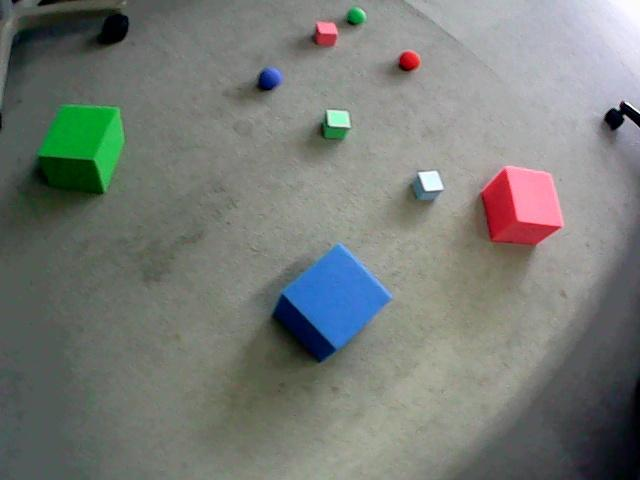blue_block: (273, 244, 392, 360), (412, 170, 443, 200)
red_block: (481, 166, 563, 244), (315, 22, 337, 45)
